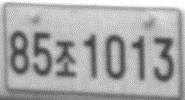0: (104, 35, 125, 80)
1: (130, 34, 147, 82), (83, 34, 98, 78)
3: (153, 36, 174, 82)
5: (31, 32, 53, 76)
8: (9, 29, 29, 74)
조: (54, 40, 77, 77)
